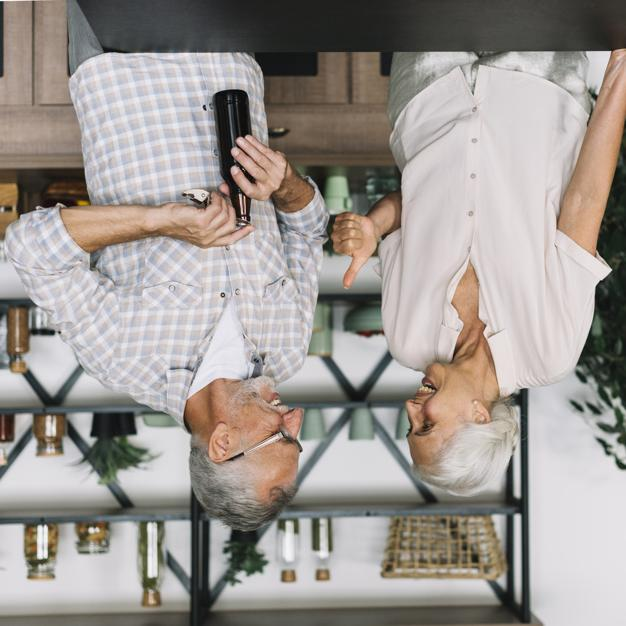thumbsdown: (330, 212, 365, 290)
